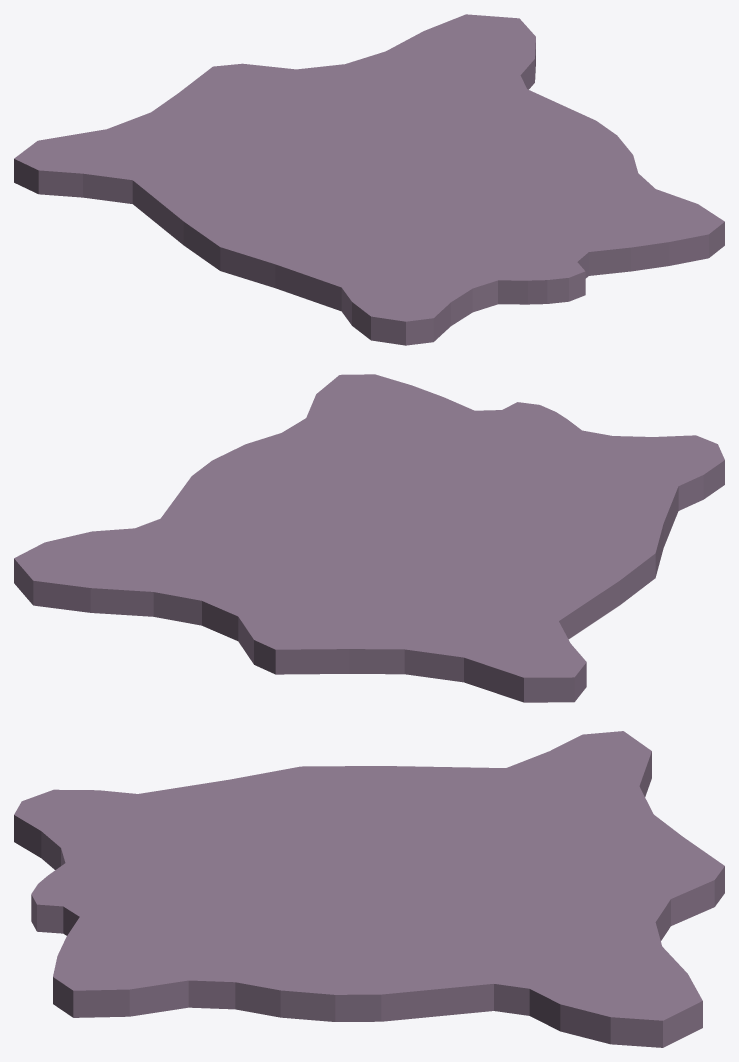
Rendered from Hide 01.fbx.
3 renders of one model, top to bottom at view 1: azimuth 30°, elevation 25°; view 2: azimuth 150°, elevation 25°; view 3: azimuth 270°, elevation 25°, orthographic. The views are drawn at different scales.
Parts seen in each view (by area): view 1: Hide 01; view 2: Hide 01; view 3: Hide 01.
Part boxes in pixels (<box>): Hide 01: <box>14,14,724,345</box>; Hide 01: <box>14,374,724,702</box>; Hide 01: <box>14,731,724,1047</box>.
Size of the model in its own units: 104 by 4.56 by 108.
